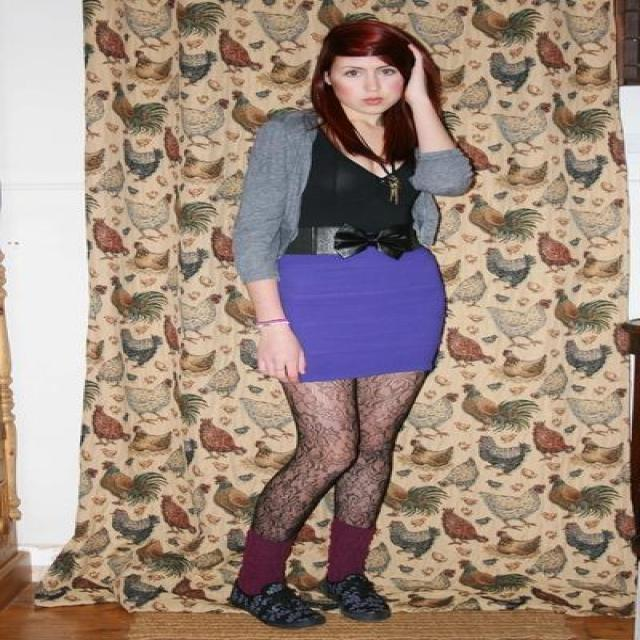jacket: (212, 100, 470, 284)
shirt: (299, 143, 421, 238)
shoe: (221, 572, 397, 629)
skirt: (274, 243, 452, 382)
